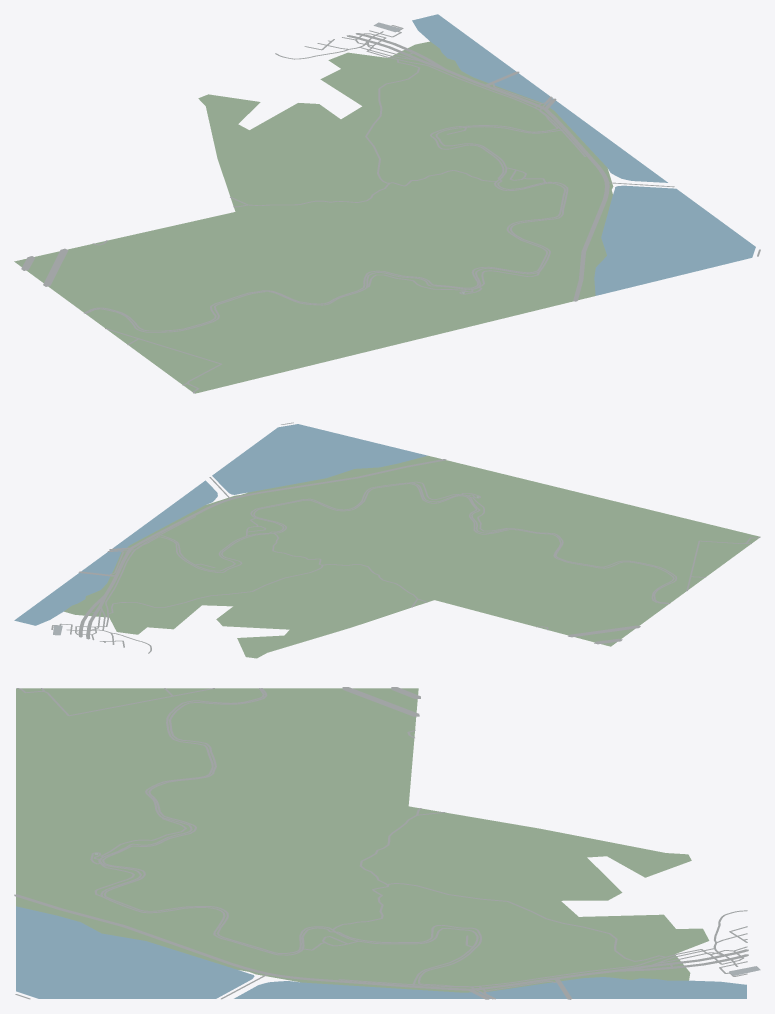
The model's file is 13_7-known-coarse.glb.
The picture shows the model from 3 angles, top to bottom: view 1: azimuth 30°, elevation 25°; view 2: azimuth 150°, elevation 25°; view 3: azimuth 270°, elevation 25°; orthographic projection. The views are drawn at different scales.
Bounding box in the file's own units: 1008 × 0.15 × 1017.
